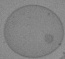small: (44, 34, 56, 44)
